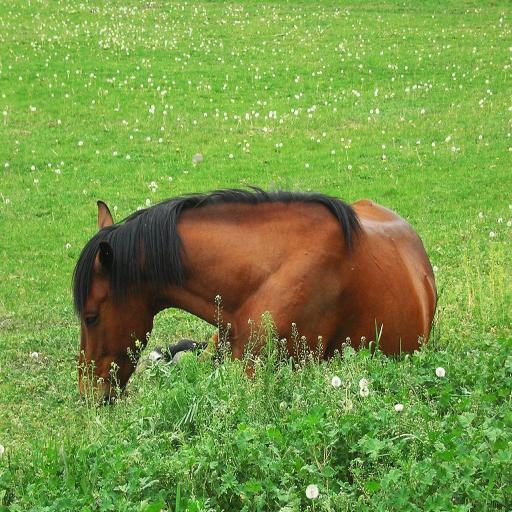Horse: (68, 182, 438, 406)
